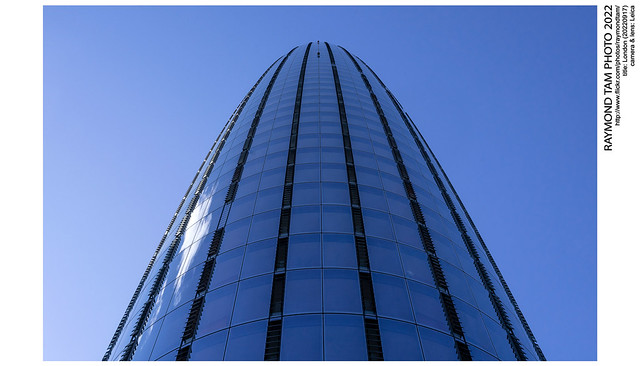medium: (87, 36, 549, 362)
